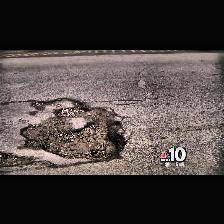pothole: (17, 98, 125, 160)
